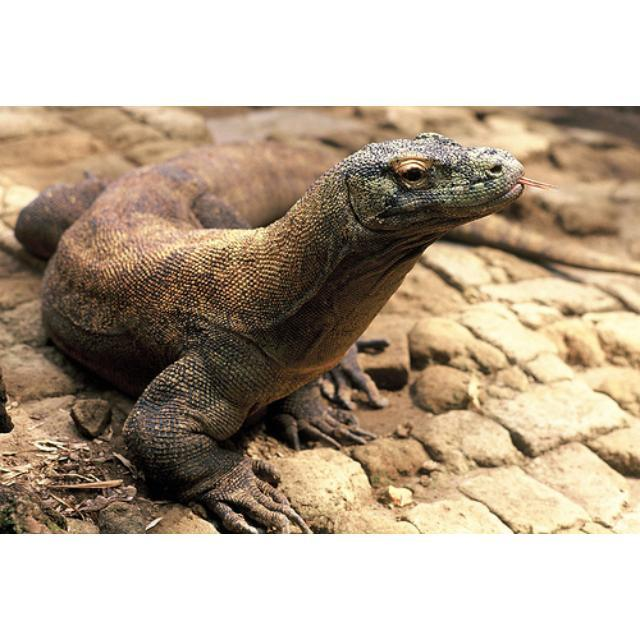KomodoDragon: (13, 130, 545, 533)
